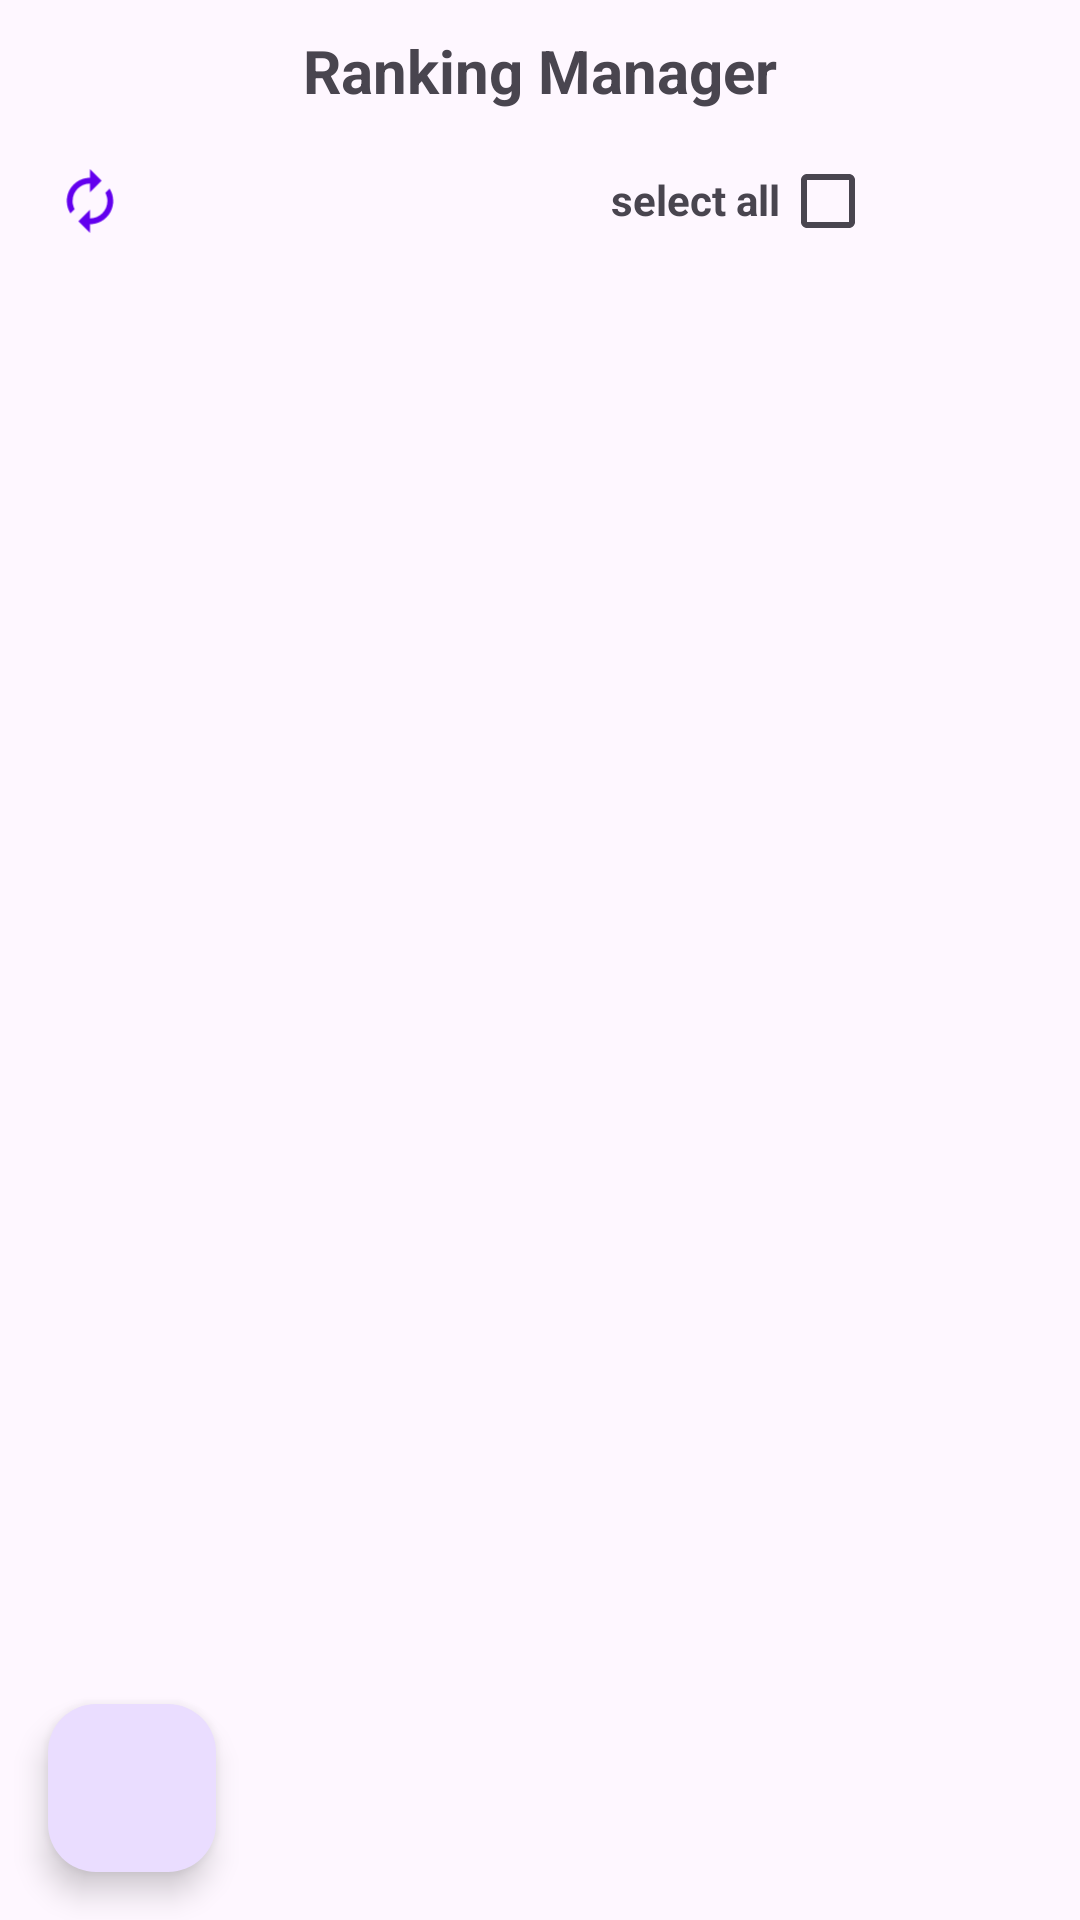

Icon click points for this 1080 x 1920 phone screenshot, format (x=x, y=y):
refresh: (x=90, y=201)
